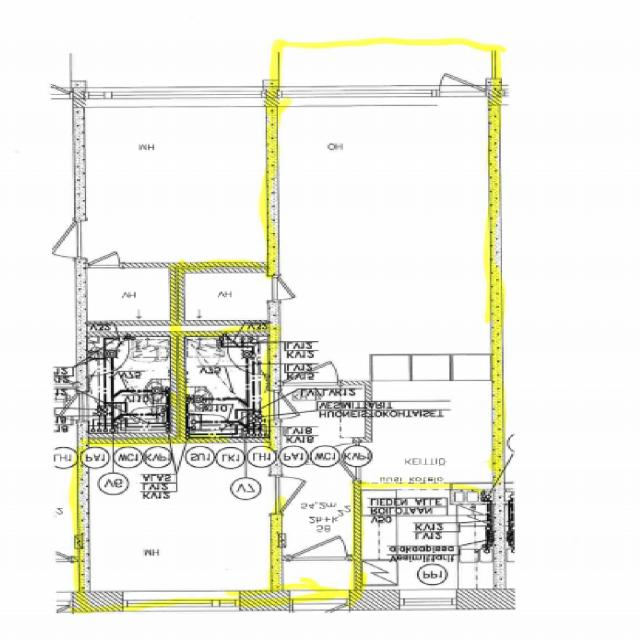door: (293, 591, 348, 640), (293, 516, 347, 560), (284, 342, 338, 385), (269, 477, 332, 513), (304, 443, 361, 479), (440, 53, 484, 98), (269, 393, 317, 419), (267, 276, 313, 300)
